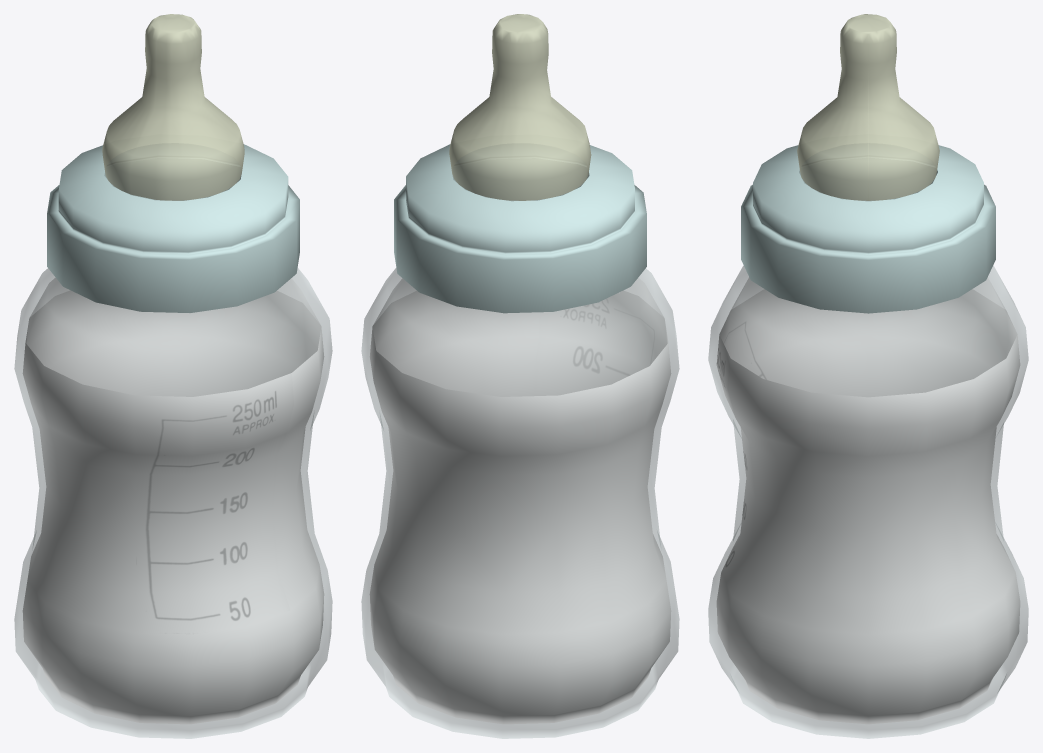
File: formula_bottle.fbx
3 views of the same model, side by side, from view 1: azimuth 30°, elevation 25°; view 2: azimuth 150°, elevation 25°; view 3: azimuth 270°, elevation 25° (orthographic).
Parts seen in each view (by area): view 1: bottle, bottle_interior, lid, nipple; view 2: bottle, bottle_interior, lid, nipple; view 3: bottle, bottle_interior, lid, nipple.
Part boxes in pixels (bbox=[...]): bottle: bbox=[14, 199, 332, 738]; bottle_interior: bbox=[22, 278, 324, 724]; lid: bbox=[47, 143, 299, 312]; nipple: bbox=[102, 14, 244, 200]; bottle: bbox=[361, 200, 679, 738]; bottle_interior: bbox=[369, 278, 671, 724]; lid: bbox=[394, 144, 646, 313]; nipple: bbox=[449, 14, 591, 200]; bottle: bbox=[708, 266, 1028, 738]; bottle_interior: bbox=[716, 277, 1020, 724]; lid: bbox=[741, 144, 995, 313]; nipple: bbox=[797, 14, 939, 200].
Bounding box in the file's own units: 2.21 × 5.02 × 2.21.
5 materials, 1 textured.
